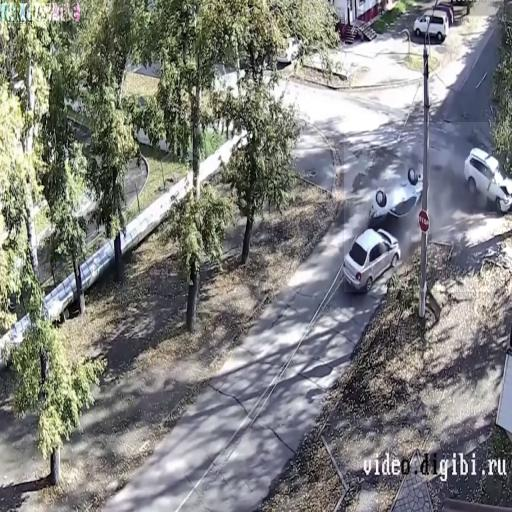小汽车: (412, 8, 452, 43)
小汽车撞小汽车: (344, 122, 512, 292)
